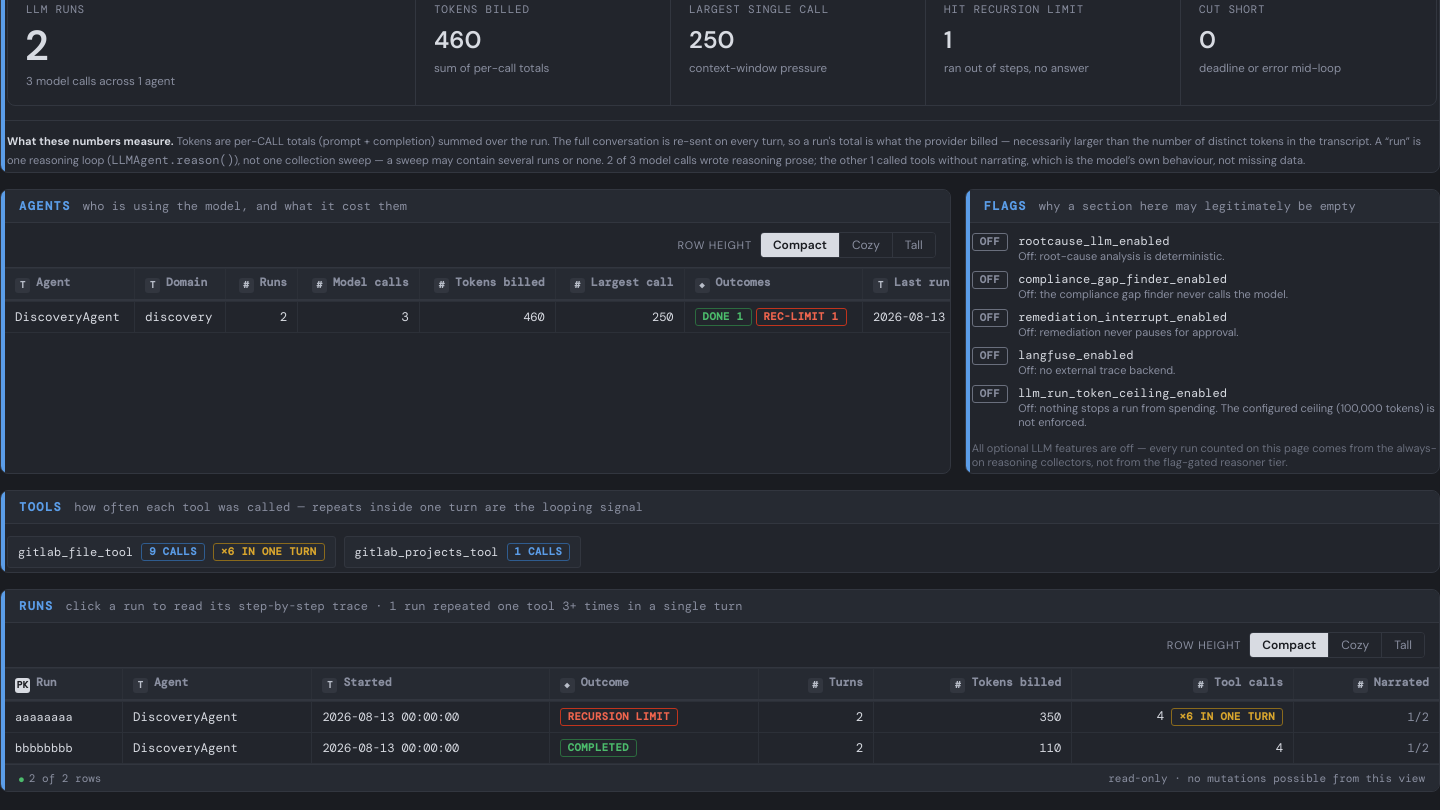
Test: LLM Observability page › explains an absent reasoning step instead of rendering a blank
(page scrolled)
Click the text "aaaaaaaa". click: [44, 717]
box: [15,709,73,725]
(page scrolled)
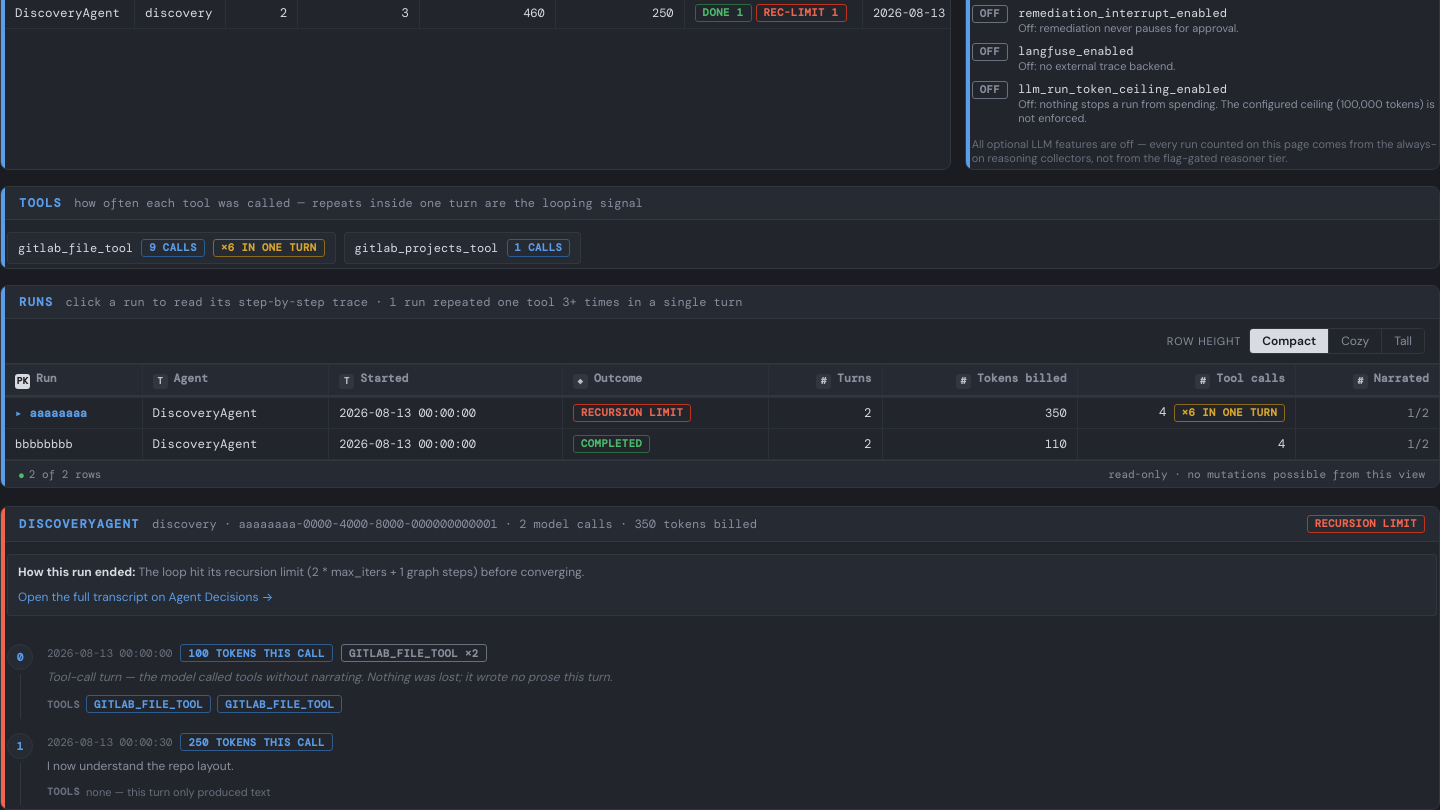
Expected: the text "the model called tools without narrating. Nothing was lost" is shown, [47,669,612,685]
Expected: the text "I now understand the repo layout." is shown, [47,758,234,774]
Expected: the text "100 tokens this call" is shown, [180,644,333,662]
